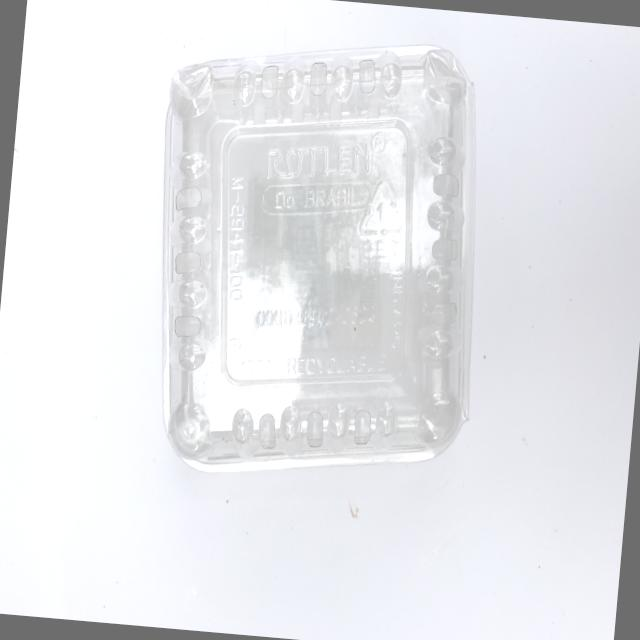Plastic: (110, 23, 533, 521)
